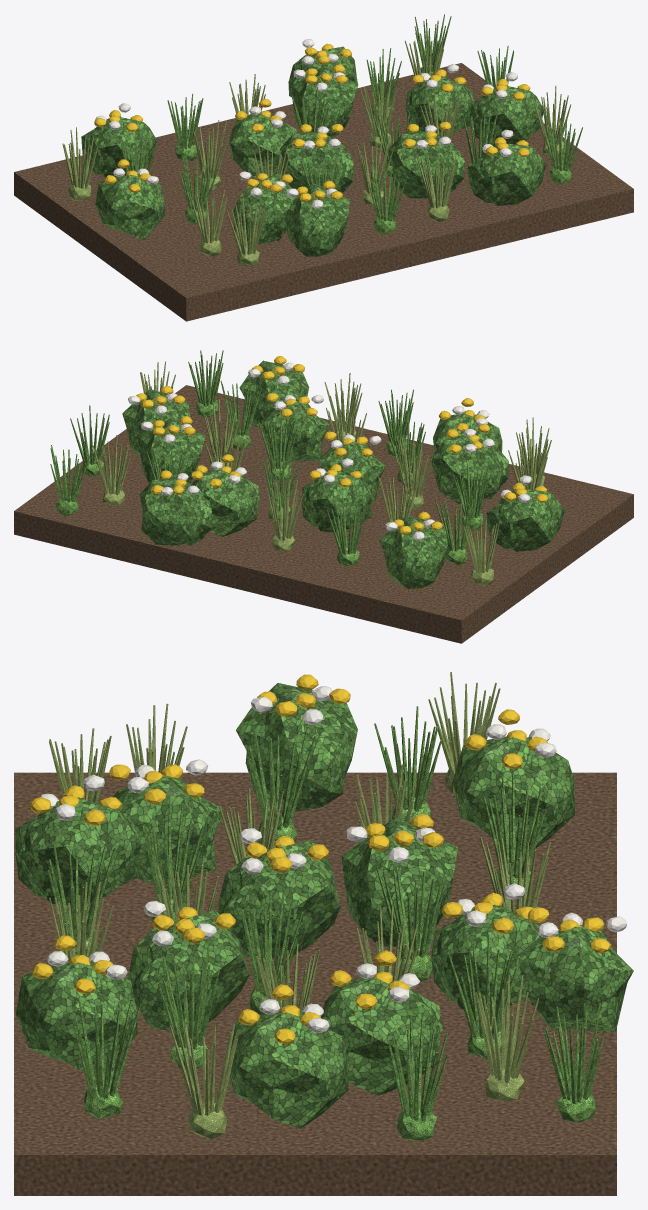
3 views of the same model, one above another, from view 1: azimuth 30°, elevation 25°; view 2: azimuth 150°, elevation 25°; view 3: azimuth 270°, elevation 25° (orthographic). The views are drawn at different scales.
Parts seen in each view (by area): view 1: landscape.meadow, biljka-1-0.4 (×16), biljka-0-0.4 (×12), biljka-2-0.4 (×11); view 2: landscape.meadow, biljka-1-0.4 (×18), biljka-2-0.4 (×12), biljka-0-0.4 (×11); view 3: biljka-1-0.4 (×34), landscape.meadow, biljka-2-0.4 (×12), biljka-0-0.4 (×12).
Part boxes in pixels (x1,y1,x2,y2): landscape.meadow: [14, 63, 633, 321]; biljka-1-0.4 (×16): [81, 46, 546, 256]; biljka-0-0.4 (×12): [62, 40, 571, 266]; biljka-2-0.4 (×11): [120, 14, 582, 234]; landscape.meadow: [14, 385, 633, 643]; biljka-1-0.4 (×18): [122, 360, 564, 589]; biljka-2-0.4 (×12): [50, 350, 488, 565]; biljka-0-0.4 (×11): [92, 373, 551, 585]; biljka-1-0.4 (×34): [15, 674, 633, 1128]; landscape.meadow: [14, 772, 616, 1195]; biljka-2-0.4 (×12): [48, 706, 606, 1140]; biljka-0-0.4 (×12): [49, 672, 550, 1138].
Bounding box in the file's own units: 3.02 × 2.06 × 0.5497.
6 materials, 4 textured.
